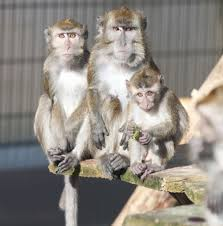monkey: (23, 8, 136, 226), (88, 6, 168, 188), (117, 49, 199, 147)
